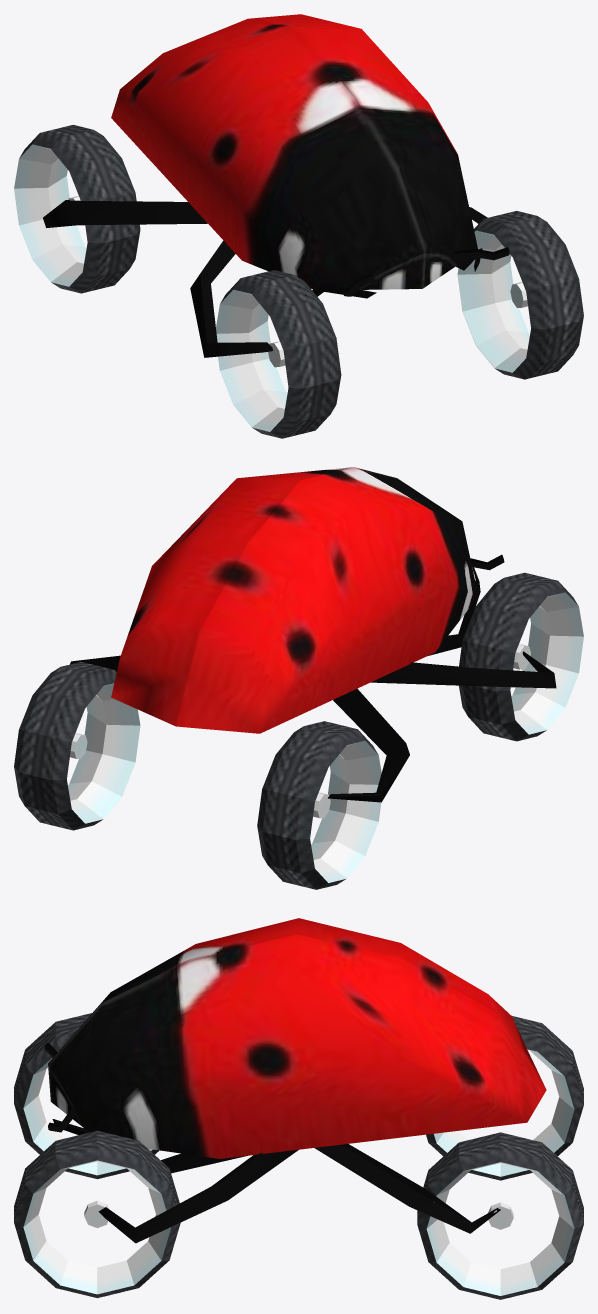
Rendered from ladybug.glb.
3 renders of one model, top to bottom at view 1: azimuth 30°, elevation 25°; view 2: azimuth 150°, elevation 25°; view 3: azimuth 270°, elevation 25°, orthographic.
Parts seen in each view (by area): view 1: ZtoY, wheel4 (×3), legs4; view 2: ZtoY, wheel4 (×3), legs4; view 3: ZtoY, wheel4 (×4), legs4.
Boxes of the visible parts, left/top/right/bottom form: ZtoY: left=111, top=14, right=509, bottom=296; wheel4 (×3): left=14, top=125, right=583, bottom=438; legs4: left=43, top=200, right=487, bottom=357; ZtoY: left=111, top=467, right=504, bottom=733; wheel4 (×3): left=14, top=572, right=583, bottom=889; legs4: left=70, top=567, right=556, bottom=802; ZtoY: left=44, top=918, right=546, bottom=1158; wheel4 (×4): left=14, top=1013, right=583, bottom=1299; legs4: left=52, top=1119, right=500, bottom=1243.
Bounding box in the file's own units: 4.43 × 3.59 × 6.22.
3 materials, 3 textured.
